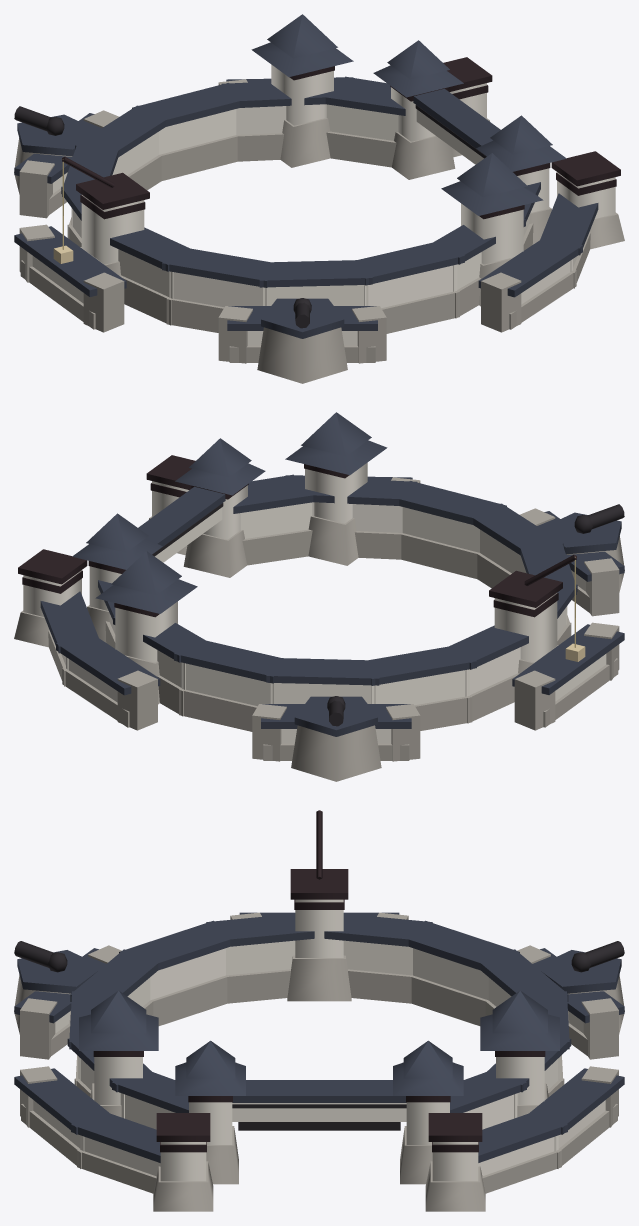
Rendered from base_builder_walls_3.glb.
The picture shows the model from 3 angles, top to bottom: view 1: azimuth 30°, elevation 25°; view 2: azimuth 150°, elevation 25°; view 3: azimuth 270°, elevation 25°; orthographic projection. The views are drawn at different scales.
Visible parts, largest first — view 1: bastion_240, wall_8_cap, outer_wall_4_0_cap, wall_7_cap, outer_wall_2_0_cap, wall_9_cap, gate_arch_cap, wall_9_plaster, wall_3_cap, wall_7_plaster, tower_180_body, wall_2_cap (+58 smaller); view 2: bastion_120, wall_3_cap, outer_wall_0_1_cap, wall_4_cap, outer_wall_2_0_cap, wall_2_cap, gate_arch_cap, wall_2_plaster, wall_4_plaster, tower_180_body, wall_9_cap, tower_60_body (+58 smaller); view 3: gate_arch_cap, wall_4_cap, gate_arch, outer_wall_4_0_cap, wall_7_cap, outer_wall_0_1_cap, tower_180_ishigaki, outer_wall_0_0_cap, wall_3_cap, wall_6_cap, wall_5_cap, outer_wall_4_1_cap (+59 smaller).
Boxes of the visible parts, left/top/right/bottom form: bastion_240: left=257, top=327, right=347, bottom=383; wall_8_cap: left=257, top=259, right=372, bottom=287; outer_wall_4_0_cap: left=478, top=235, right=582, bottom=297; wall_7_cap: left=162, top=247, right=282, bottom=287; outer_wall_2_0_cap: left=14, top=226, right=126, bottom=296; wall_9_cap: left=358, top=240, right=464, bottom=285; gate_arch_cap: left=413, top=88, right=500, bottom=156; wall_9_plaster: left=364, top=264, right=457, bottom=308; wall_3_cap: left=75, top=105, right=172, bottom=157; wall_7_plaster: left=169, top=271, right=267, bottom=307; tower_180_body: left=81, top=195, right=144, bottom=264; wall_2_cap: left=132, top=83, right=249, bottom=126; bastion_120: left=291, top=725, right=381, bottom=781; wall_3_cap: left=266, top=657, right=381, bottom=685; outer_wall_0_1_cap: left=56, top=633, right=160, bottom=695; wall_4_cap: left=356, top=644, right=476, bottom=685; outer_wall_2_0_cap: left=512, top=624, right=624, bottom=694; wall_2_cap: left=174, top=638, right=283, bottom=683; gate_arch_cap: left=138, top=486, right=225, bottom=554; wall_2_plaster: left=181, top=662, right=274, bottom=706; wall_4_plaster: left=371, top=669, right=469, bottom=705; tower_180_body: left=494, top=593, right=557, bottom=662; wall_9_cap: left=389, top=481, right=506, bottom=524; tower_60_body: left=115, top=601, right=177, bottom=662; gate_arch_cap: left=232, top=1080, right=406, bottom=1102; wall_4_cap: left=398, top=920, right=519, bottom=970; gate_arch: left=232, top=1103, right=406, bottom=1121; outer_wall_4_0_cap: left=14, top=1068, right=115, bottom=1134; wall_7_cap: left=119, top=920, right=240, bottom=970; outer_wall_0_1_cap: left=523, top=1068, right=624, bottom=1134; tower_180_ishigaki: left=287, top=955, right=351, bottom=1001; outer_wall_0_0_cap: left=478, top=1110, right=567, bottom=1162; wall_3_cap: left=475, top=949, right=568, bottom=1001; wall_6_cap: left=206, top=913, right=314, bottom=946; wall_5_cap: left=324, top=913, right=432, bottom=946; outer_wall_4_1_cap: left=71, top=1114, right=160, bottom=1162.
Size of the model in its own units: 1.2 by 0.3348 by 1.21.
